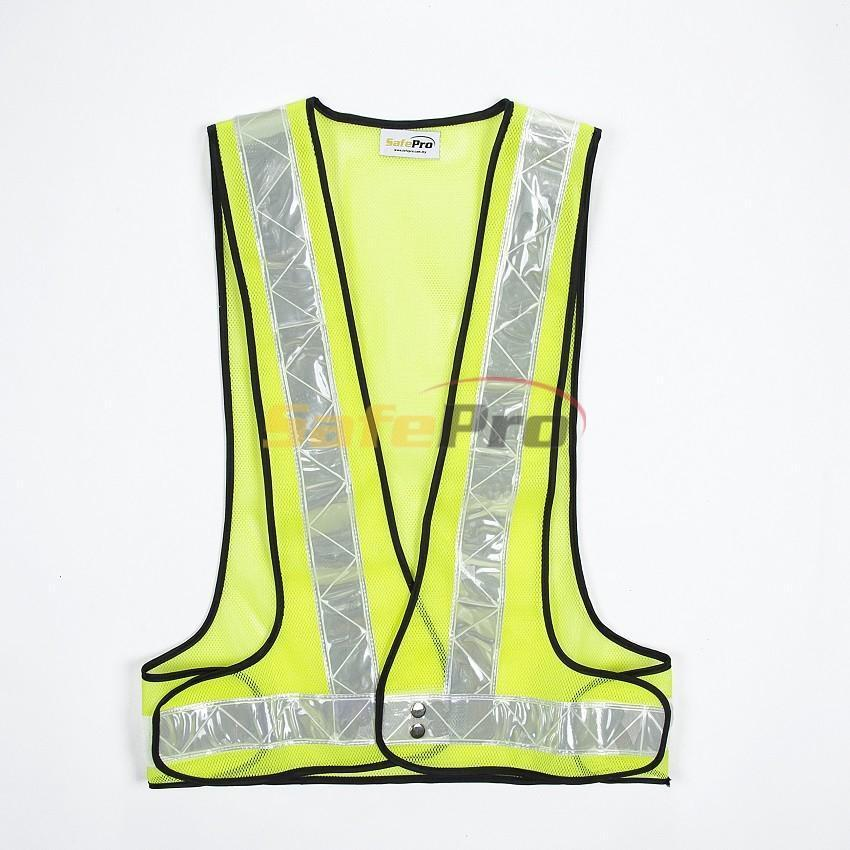vest: (141, 85, 675, 795)
